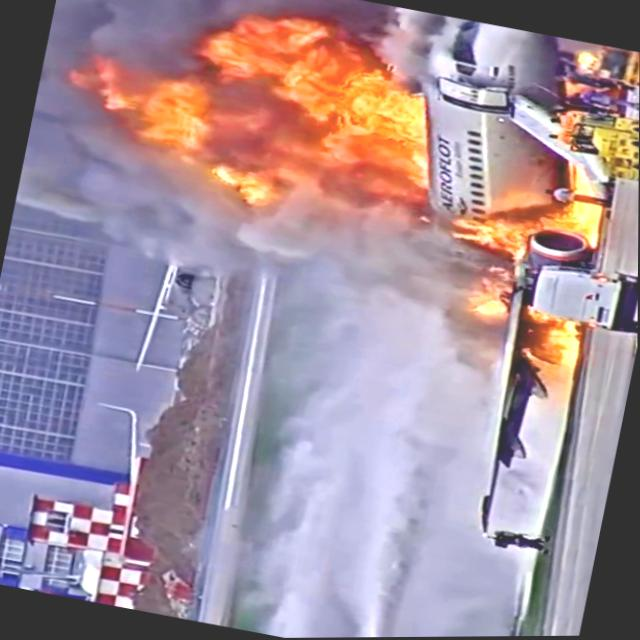fire: (113, 3, 445, 221), (451, 205, 534, 260)
